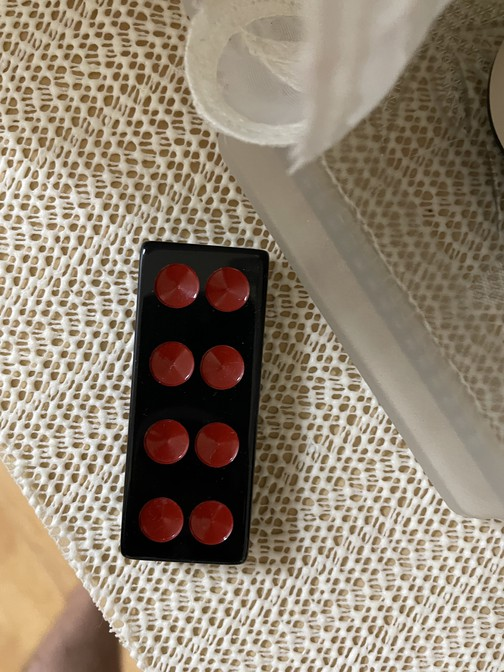man: (123, 242, 269, 568)
